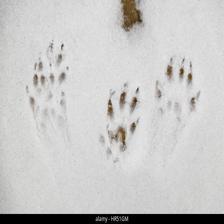squirrel: (147, 54, 201, 141), (94, 83, 146, 168)
